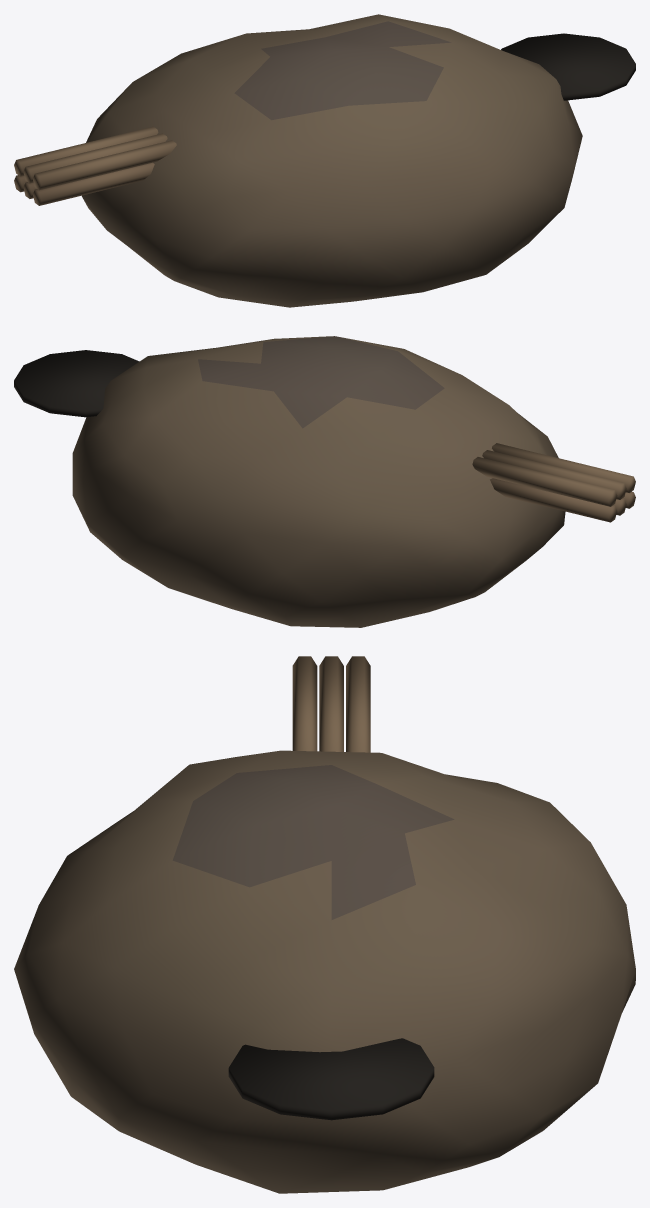
Rendered from tar_kiln.glb.
The picture shows the model from 3 angles, top to bottom: view 1: azimuth 30°, elevation 25°; view 2: azimuth 150°, elevation 25°; view 3: azimuth 270°, elevation 25°; orthographic projection. The views are drawn at different scales.
Visible parts, largest first — view 1: tar_kiln; view 2: tar_kiln; view 3: tar_kiln.
Part boxes in pixels (box(x1,y1,x2,y2)): tar_kiln: box(14, 14, 635, 307); tar_kiln: box(14, 336, 635, 627); tar_kiln: box(14, 656, 635, 1193).
Bounding box in the file's own units: 9.6 × 3.46 × 6.05.
